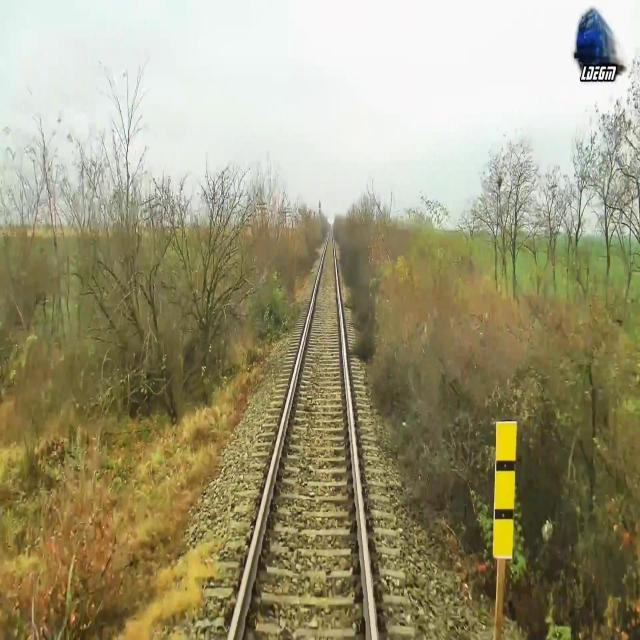rail-track: (233, 232, 372, 639)
